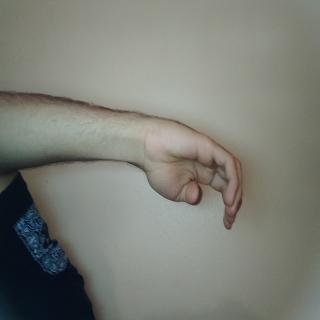JEEM: (74, 94, 178, 240)
